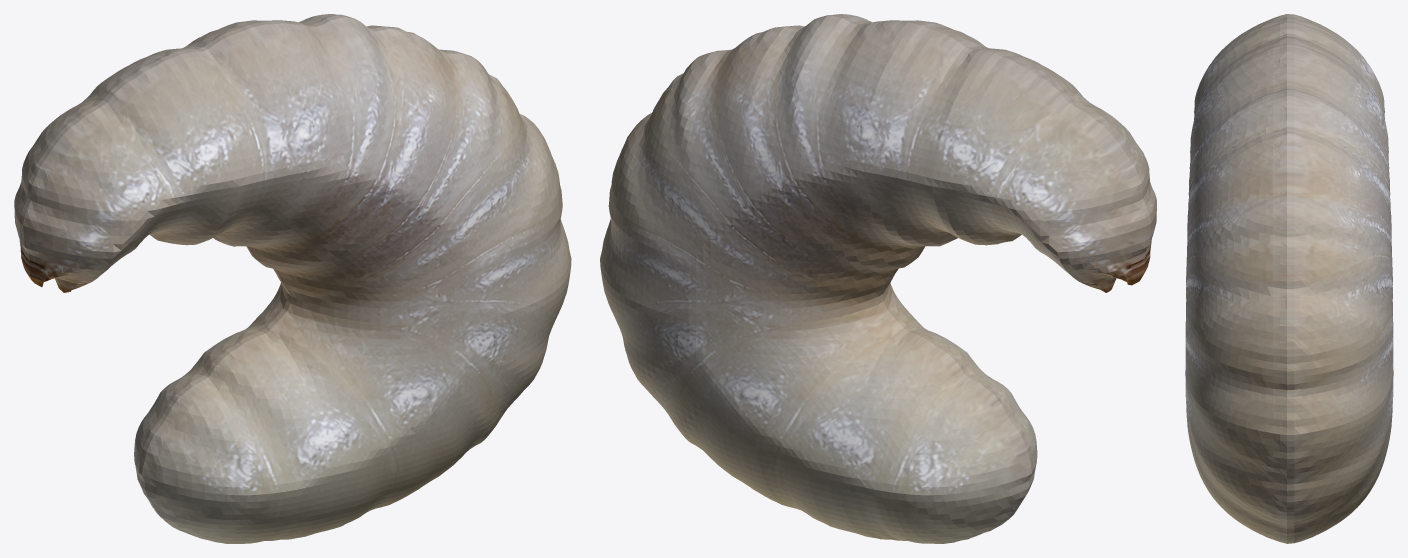
The model's file is larva.glb.
3 views of the same model, side by side, from view 1: azimuth 30°, elevation 25°; view 2: azimuth 150°, elevation 25°; view 3: azimuth 270°, elevation 25° (orthographic). The views are drawn at different scales.
Parts seen in each view (by area): view 1: larva; view 2: larva; view 3: larva.
Boxes of the visible parts, box(x1,y1,x2,y2) form: larva: box(14, 14, 571, 543); larva: box(600, 14, 1156, 543); larva: box(1185, 14, 1393, 543).
Size of the model in its own units: 1.06 by 0.9663 by 0.4027.
Materials: 1 (1 with a texture image).
